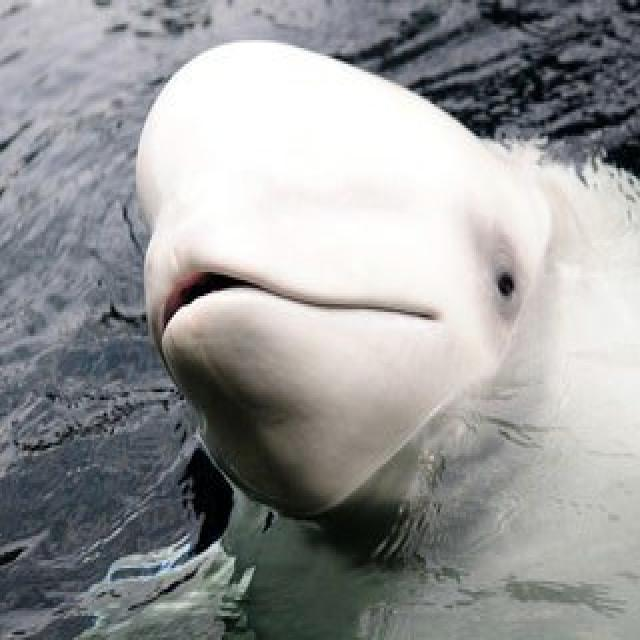whale: (136, 43, 638, 637)
